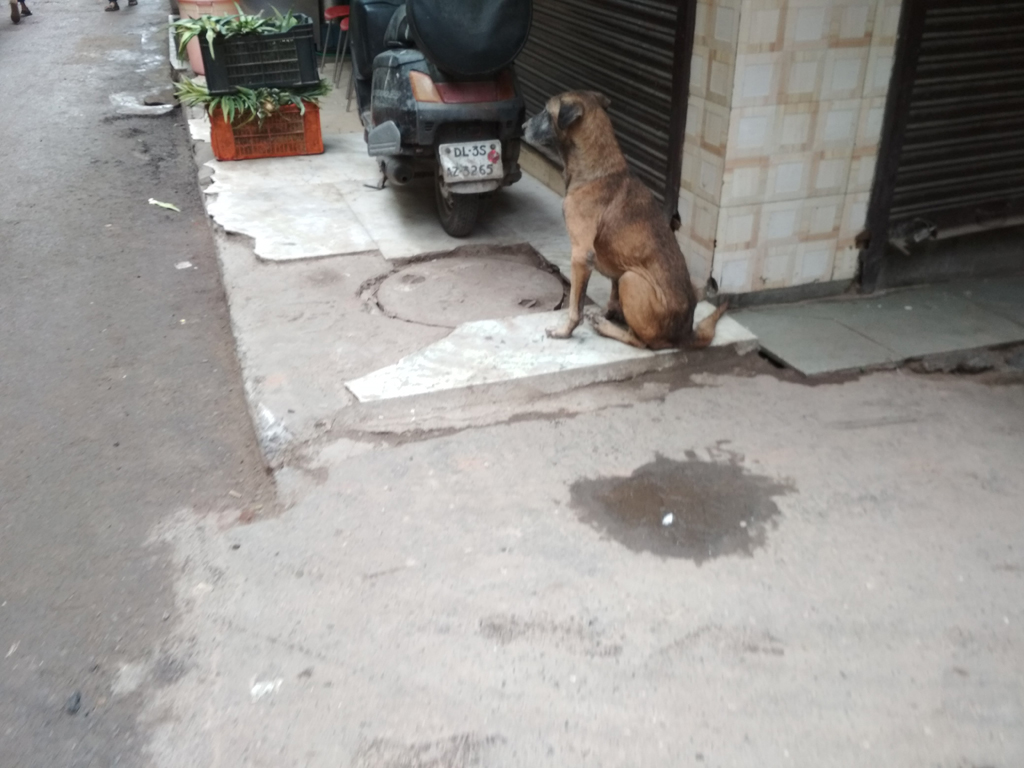dog: (521, 90, 733, 352)
